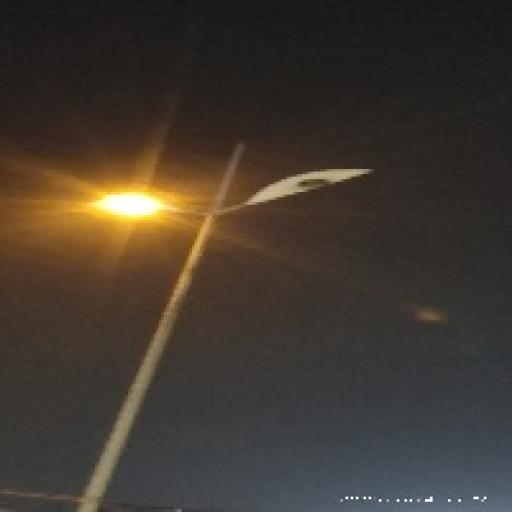Not Working: (238, 153, 373, 224)
Working: (77, 181, 186, 232)
